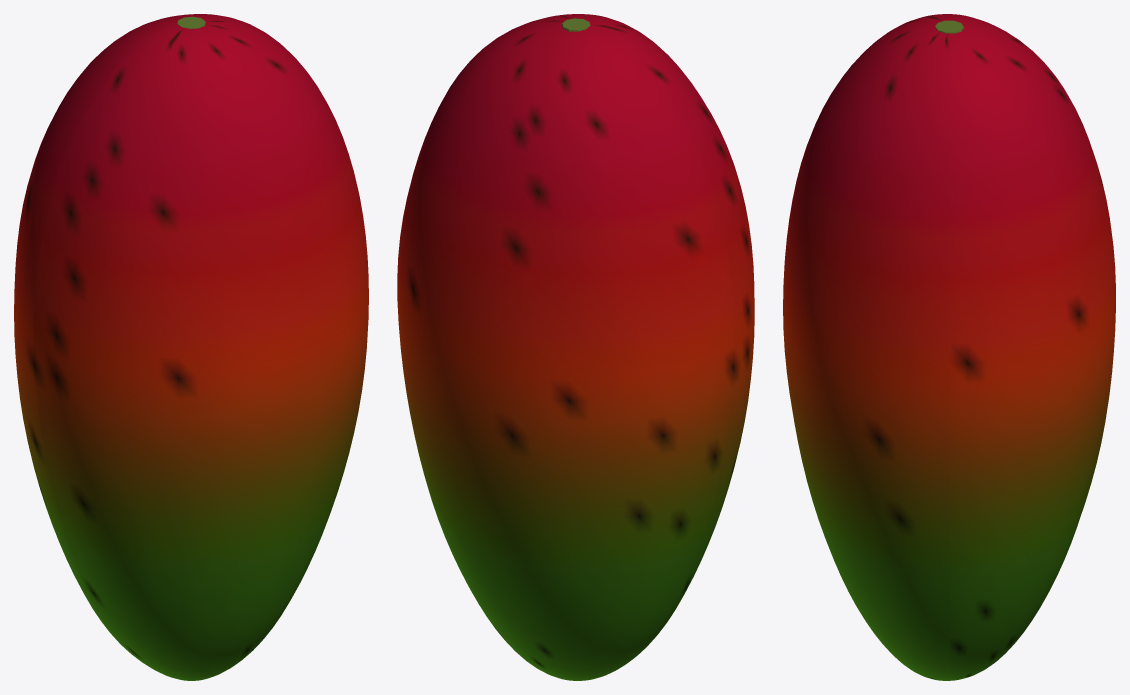
The model's file is figue-de-barbarie.glb.
The picture shows the model from 3 angles, left to right: view 1: azimuth 30°, elevation 25°; view 2: azimuth 150°, elevation 25°; view 3: azimuth 270°, elevation 25°; orthographic projection.
Parts seen in each view (by area): view 1: entier_peau, moitie_B_peau, moitie_A_peau; view 2: moitie_A_peau, entier_peau, moitie_B_peau; view 3: entier_peau, moitie_A_peau, moitie_B_peau.
Part boxes in pixels (x1,y1,x2,y2): entier_peau: (14, 14, 368, 680); moitie_B_peau: (33, 21, 368, 680); moitie_A_peau: (14, 14, 265, 629); moitie_A_peau: (397, 22, 728, 680); entier_peau: (397, 14, 754, 680); moitie_B_peau: (508, 14, 754, 655); entier_peau: (783, 14, 1115, 680); moitie_A_peau: (951, 14, 1115, 680); moitie_B_peau: (783, 14, 949, 680).
Bounding box in the file's own units: 1.01 × 2 × 0.9303.
